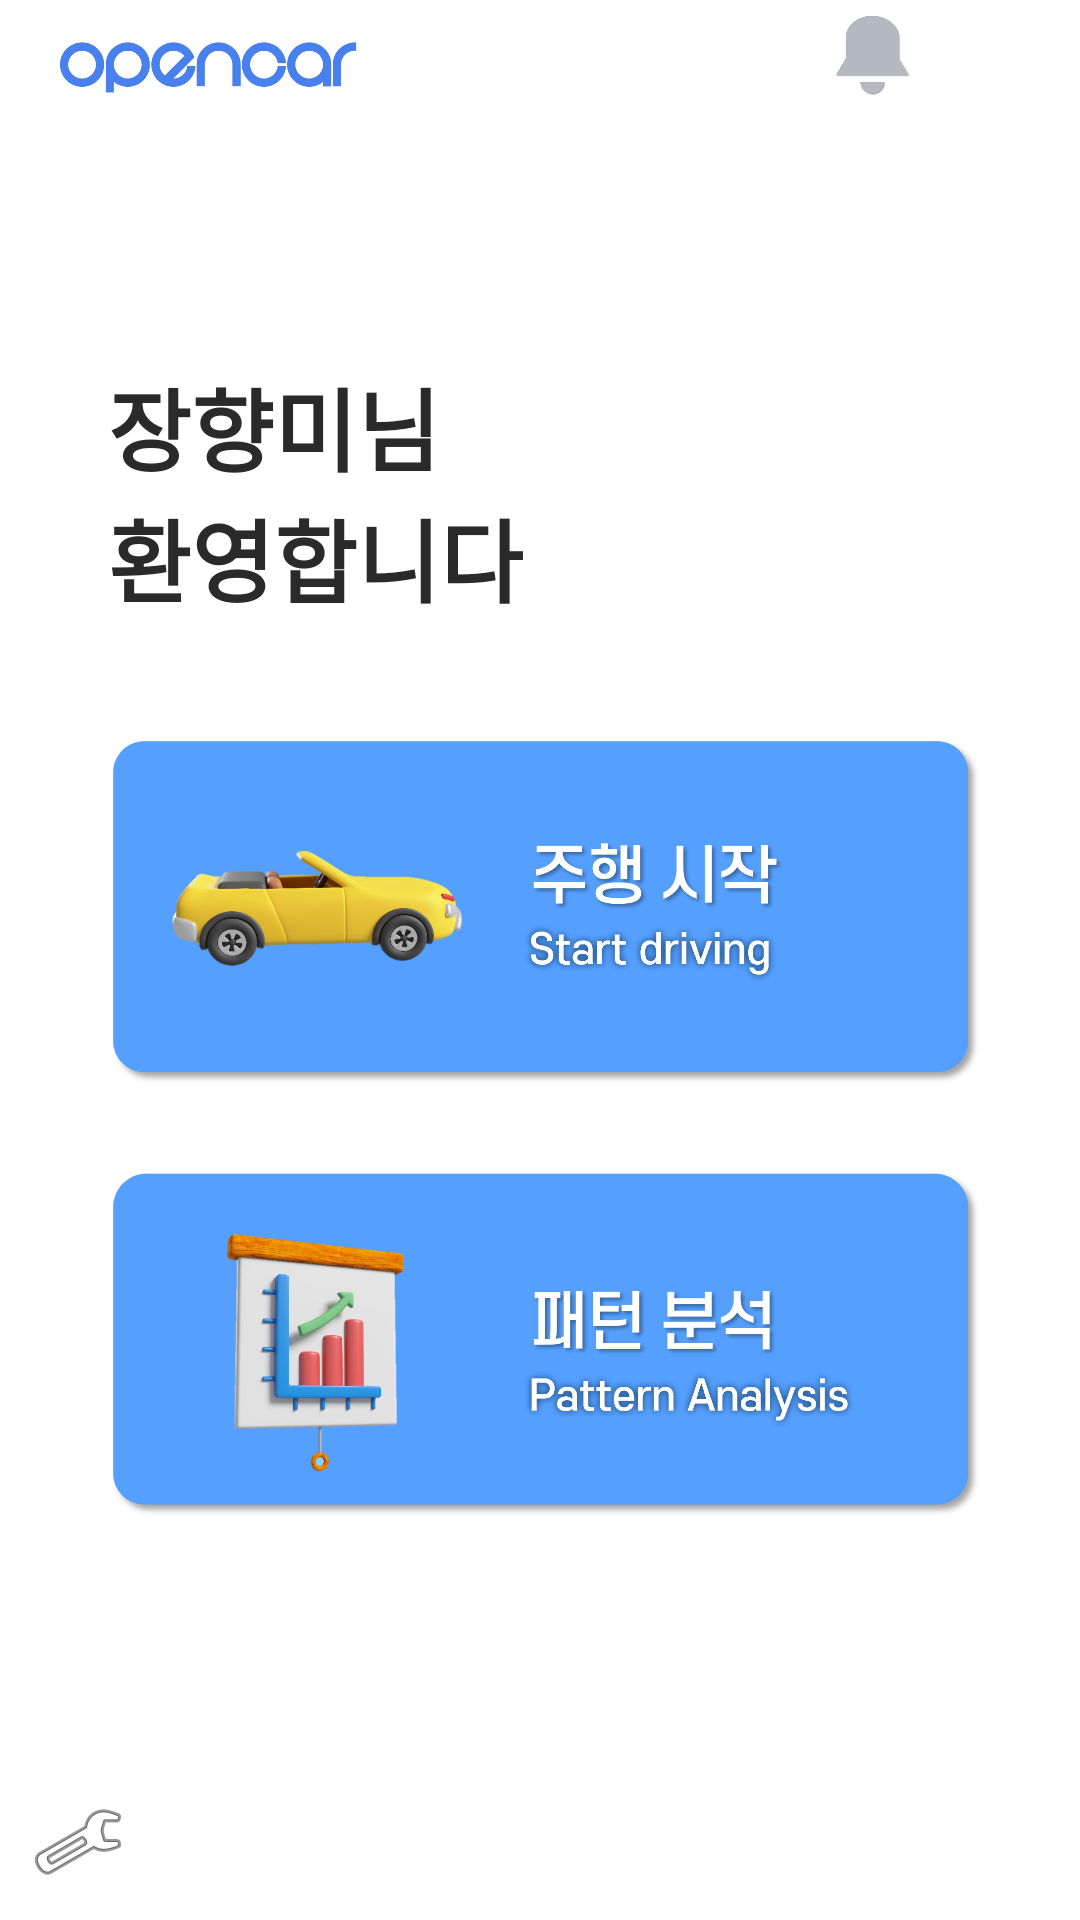

Icon click points for this 1080×1920 phone screenshot, format [x,y]:
alarm: [872,55]
manage: [78,1842]
